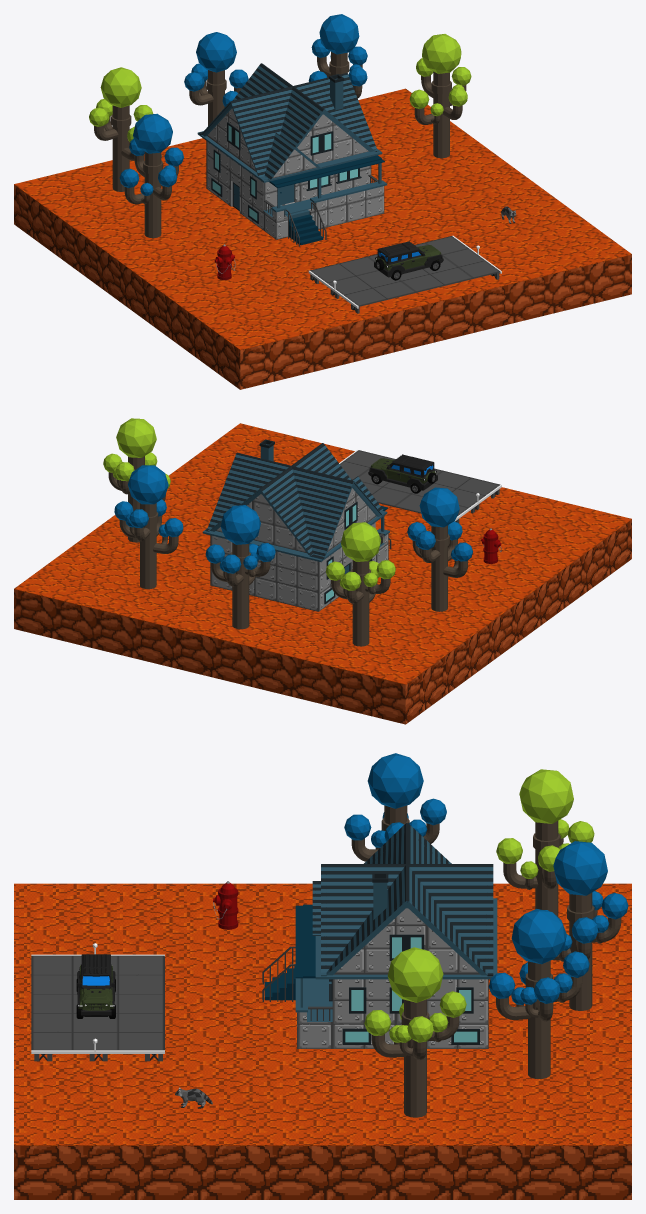
The picture shows the model from 3 angles, top to bottom: view 1: azimuth 30°, elevation 25°; view 2: azimuth 150°, elevation 25°; view 3: azimuth 270°, elevation 25°; orthographic projection. The views are drawn at different scales.
Visible parts, largest first — view 1: Cube.001, Cube.078, VEHICLES_JEEP, OBJRANDOM_FIRE_HYDRANT; view 2: Cube.001, Cube.078, VEHICLES_JEEP, OBJRANDOM_FIRE_HYDRANT; view 3: Cube.001, Cube.078, VEHICLES_JEEP, OBJRANDOM_FIRE_HYDRANT.
Part boxes in pixels (box(x1,y1,x2,y2)): Cube.001: box(14, 14, 631, 389); Cube.078: box(197, 63, 387, 246); VEHICLES_JEEP: box(374, 241, 443, 280); OBJRANDOM_FIRE_HYDRANT: box(214, 244, 235, 279); Cube.001: box(14, 418, 631, 724); Cube.078: box(202, 439, 391, 611); VEHICLES_JEEP: box(368, 454, 437, 493); OBJRANDOM_FIRE_HYDRANT: box(481, 528, 501, 563); Cube.001: box(14, 753, 631, 1199); Cube.078: box(262, 823, 497, 1048); VEHICLES_JEEP: box(76, 954, 115, 1018); OBJRANDOM_FIRE_HYDRANT: box(213, 881, 238, 929).
Size of the model in its own units: 4000 by 1680 by 4000.
Materials: 31 (6 with a texture image).
